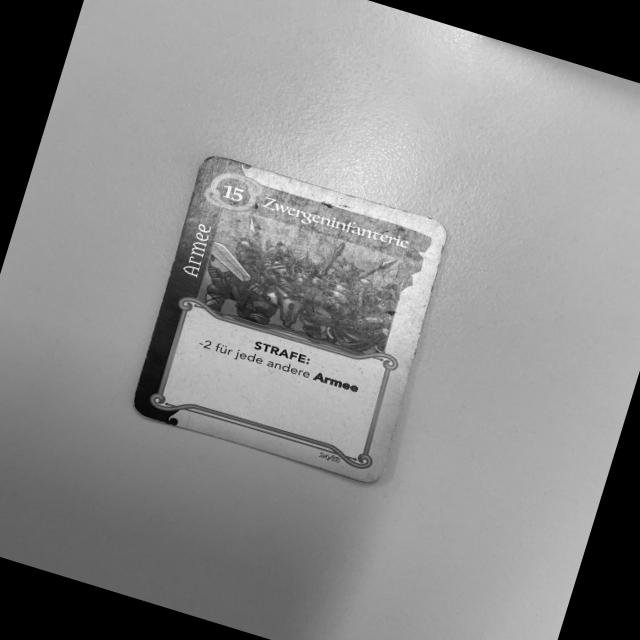Dwarvish Infantry: (122, 150, 451, 490)
